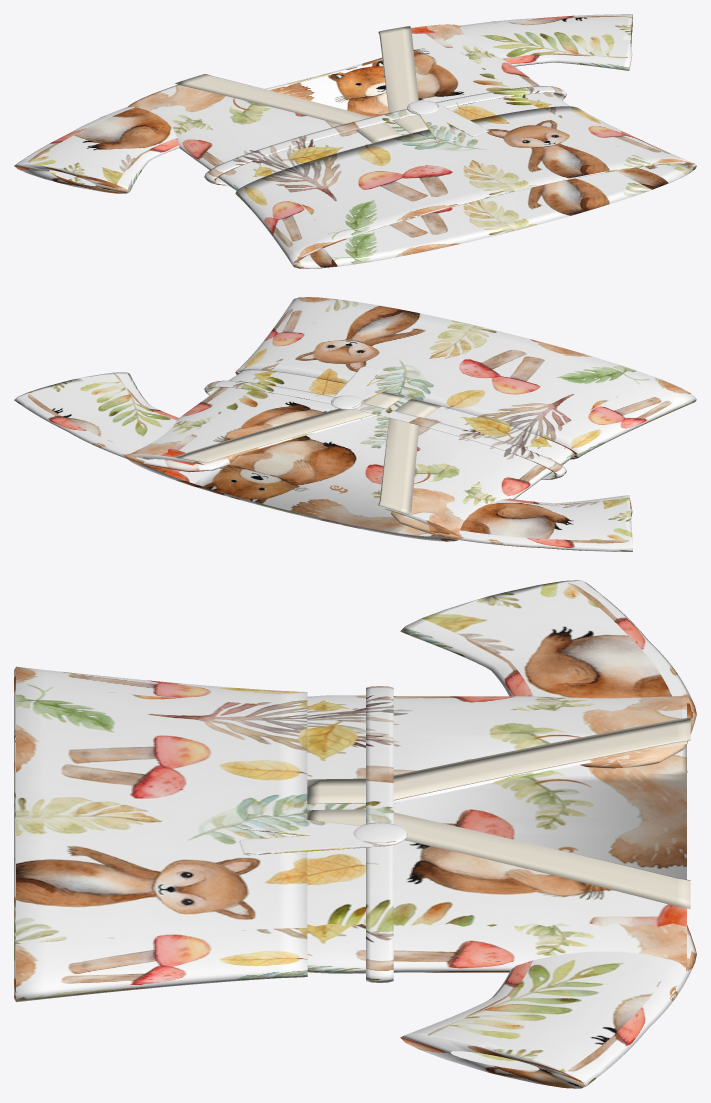
The model's file is bathrobe3.fbx.
The picture shows the model from 3 angles, top to bottom: view 1: azimuth 30°, elevation 25°; view 2: azimuth 150°, elevation 25°; view 3: azimuth 270°, elevation 25°; orthographic projection. The views are drawn at different scales.
Visible parts, largest first — view 1: bathrobe3; view 2: bathrobe3; view 3: bathrobe3.
Part boxes in pixels (bbox=[...]): bathrobe3: bbox=[14, 14, 696, 268]; bathrobe3: bbox=[14, 297, 696, 551]; bathrobe3: bbox=[14, 580, 696, 1088].
Size of the model in its own units: 1.63 by 0.1023 by 0.9335.
2 materials, 1 textured.
